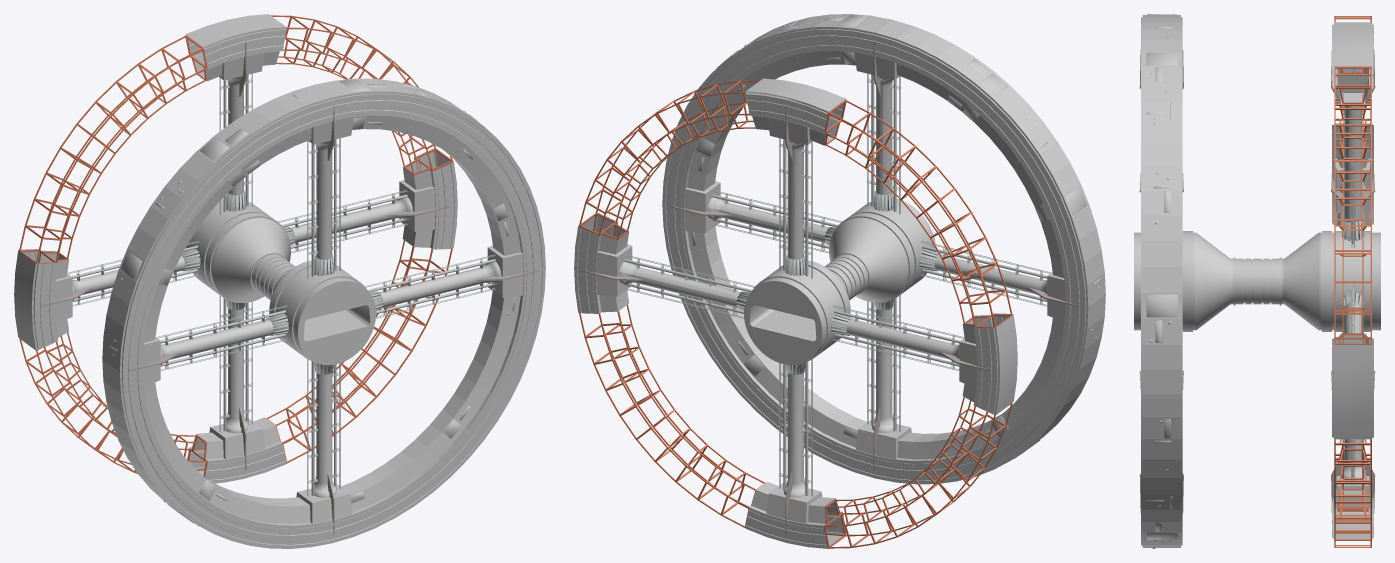
3 renders of one model, left to right at view 1: azimuth 30°, elevation 25°; view 2: azimuth 150°, elevation 25°; view 3: azimuth 270°, elevation 25°, orthographic. The views are drawn at different scales.
Parts seen in each view (by area): view 1: Wheel01, Mesh01_Material #26_0, Wheel_Gird, Cables01, Hub, Wheel02, Spoke03, Spoke02, Bay_Face_0, Spoke01, Spoke04, Blocks02 (+10 smaller); view 2: Wheel01, Mesh02_Material #26_0, Wheel_Gird, Cables01, Hub, Wheel02, Spoke03, Bay_Face_1, Spoke02, Spoke01, Spoke04, Blocks02 (+10 smaller); view 3: Wheel01, Hub, Wheel02, Wheel_Gird, Spoke01, Spoke_Supp, Cables01, Blocks04, Blocks01, Spoke03, Blocks03, Spoke02.
Boxes of the visible parts, x1,y1,x2,y2 form: Wheel01: (102,78,545,548); Mesh01_Material #26_0: (122,94,544,547); Wheel_Gird: (19,15,452,477); Cables01: (67,73,495,496); Hub: (186,199,366,361); Wheel02: (14,14,457,483); Spoke03: (226,302,336,497); Spoke02: (288,197,501,307); Bay_Face_0: (298,281,375,365); Spoke01: (227,75,335,274); Spoke04: (72,256,287,364); Blocks02: (399,179,523,297); Wheel01: (662,14,1105,484); Mesh02_Material #26_0: (663,29,1085,482); Wheel_Gird: (579,80,1012,548); Cables01: (624,73,1051,496); Hub: (753,199,935,361); Wheel02: (574,78,1017,548); Spoke03: (783,302,893,497); Bay_Face_1: (744,281,822,364); Spoke02: (619,197,831,307); Spoke01: (784,75,892,274); Spoke04: (832,254,1047,364); Blocks02: (596,181,720,296); Wheel01: (1141,14,1182,548); Hub: (1134,231,1380,331); Wheel02: (1332,22,1373,540); Wheel_Gird: (1334,16,1371,547); Spoke01: (1344,106,1361,239); Spoke_Supp: (1139,49,1375,513); Cables01: (1342,69,1364,480); Blocks04: (1333,158,1372,213); Blocks01: (1335,68,1372,96); Spoke03: (1340,439,1365,480); Blocks03: (1333,476,1372,508); Spoke02: (1344,295,1361,333).
Bounding box in the file's own units: 24893 × 24929 × 11507.
